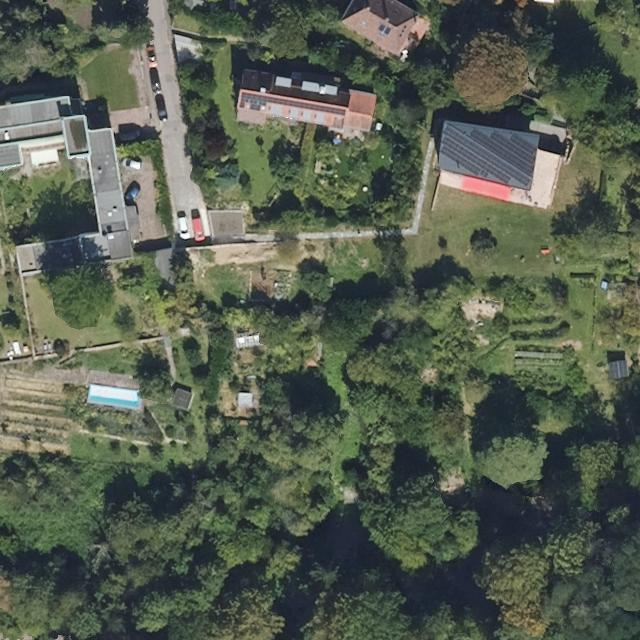PV: (438, 124, 538, 190), (238, 90, 347, 118), (376, 22, 393, 36)
